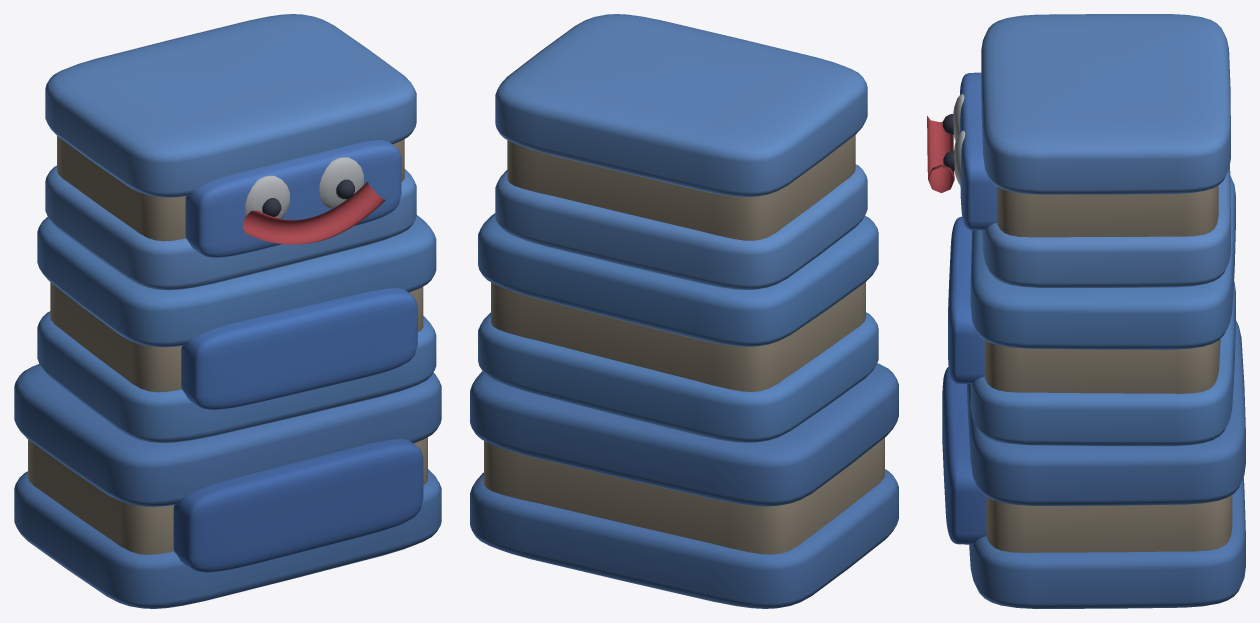
Rendered from unifacef_book_mascot.glb.
The picture shows the model from 3 angles, left to right: view 1: azimuth 30°, elevation 25°; view 2: azimuth 150°, elevation 25°; view 3: azimuth 270°, elevation 25°; orthographic projection.
Visible parts, largest first — view 1: CoverTopA, CoverBottomA, SpineBottom, CoverMidA, SpineMid, CoverBottomB, CoverMidB, CoverTopB, SpineTop, PagesBottom, PagesMid, PagesTop (+3 smaller); view 2: CoverTopA, CoverBottomA, CoverBottomB, CoverMidA, CoverMidB, CoverTopB, PagesBottom, PagesMid, PagesTop; view 3: CoverTopA, CoverBottomA, CoverMidA, CoverBottomB, CoverMidB, CoverTopB, PagesBottom, PagesMid, PagesTop, SpineBottom, SpineMid, SpineTop (+1 smaller).
Boxes of the visible parts, bbox=[...] form: CoverTopA: bbox=[45, 14, 416, 197]; CoverBottomA: bbox=[14, 364, 441, 506]; SpineBottom: bbox=[173, 439, 423, 572]; CoverMidA: bbox=[37, 215, 436, 347]; SpineMid: bbox=[181, 288, 417, 409]; CoverBottomB: bbox=[14, 469, 441, 608]; CoverMidB: bbox=[37, 311, 436, 442]; CoverTopB: bbox=[45, 165, 416, 290]; SpineTop: bbox=[185, 140, 401, 257]; PagesBottom: bbox=[28, 437, 427, 554]; PagesMid: bbox=[50, 282, 423, 392]; PagesTop: bbox=[57, 136, 404, 241]; CoverTopA: bbox=[495, 14, 867, 197]; CoverBottomA: bbox=[470, 363, 898, 506]; CoverBottomB: bbox=[470, 469, 898, 608]; CoverMidA: bbox=[478, 213, 878, 346]; CoverMidB: bbox=[478, 312, 878, 442]; CoverTopB: bbox=[495, 164, 867, 289]; PagesBottom: bbox=[484, 438, 884, 554]; PagesMid: bbox=[491, 282, 865, 391]; PagesTop: bbox=[507, 135, 855, 240]; CoverTopA: bbox=[981, 14, 1230, 194]; CoverBottomA: bbox=[967, 320, 1245, 505]; CoverMidA: bbox=[970, 176, 1235, 349]; CoverBottomB: bbox=[969, 477, 1245, 608]; CoverMidB: bbox=[970, 281, 1235, 446]; CoverTopB: bbox=[982, 165, 1230, 287]; PagesBottom: bbox=[986, 495, 1232, 552]; PagesMid: bbox=[984, 339, 1220, 393]; PagesTop: bbox=[997, 185, 1218, 237]; SpineBottom: bbox=[942, 367, 986, 544]; SpineMid: bbox=[948, 216, 984, 384]; SpineTop: bbox=[959, 72, 996, 230].
Bounding box in the file's own units: 1.12 × 1.47 × 0.9199.
